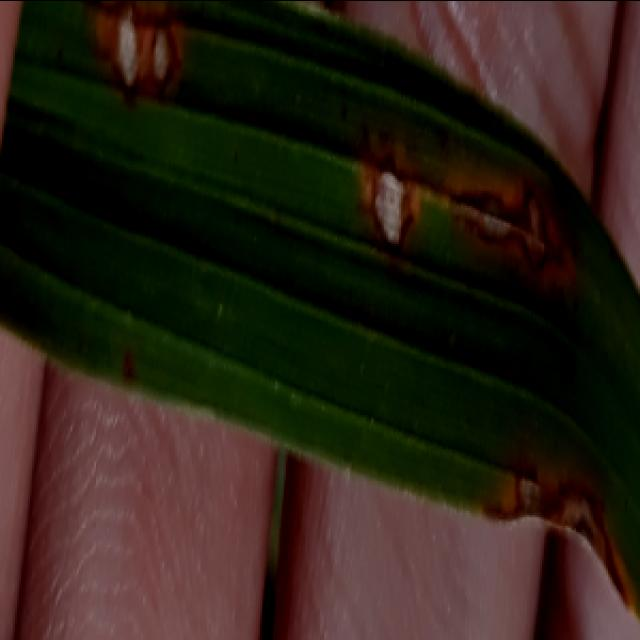Brown_Spot: (346, 150, 564, 310), (68, 0, 230, 130)
